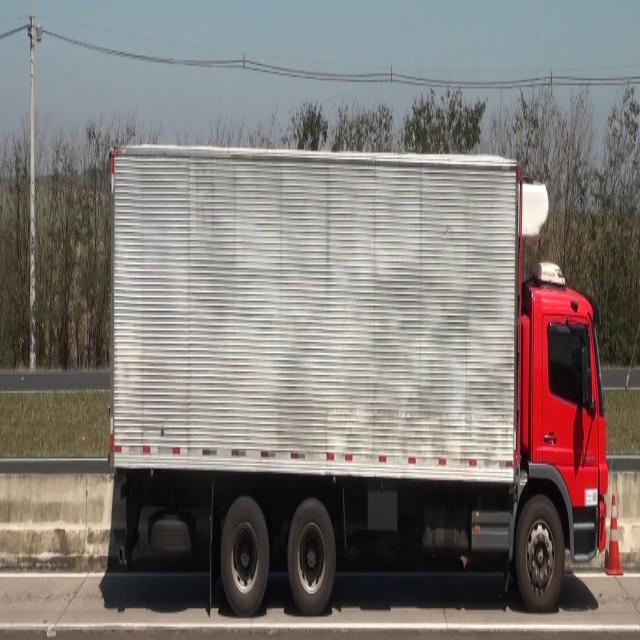-axle: (288, 495, 336, 620), (220, 494, 270, 611), (518, 496, 564, 612)
